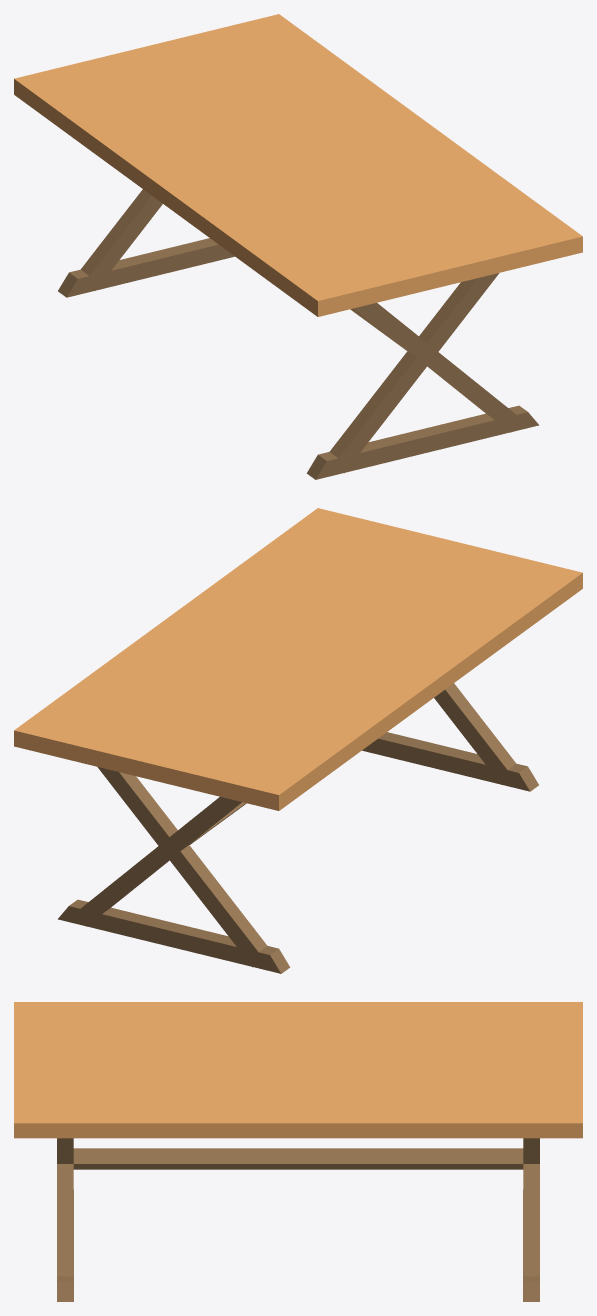
The model's file is Table.fbx.
3 renders of one model, top to bottom at view 1: azimuth 30°, elevation 25°; view 2: azimuth 150°, elevation 25°; view 3: azimuth 270°, elevation 25°, orthographic. The views are drawn at different scales.
Parts seen in each view (by area): view 1: TableTop; view 2: TableTop; view 3: TableTop.
Boxes of the visible parts, x1=… form: TableTop: x1=14, y1=14, x2=582, y2=479; TableTop: x1=14, y1=508, x2=582, y2=973; TableTop: x1=14, y1=1002, x2=582, y2=1301.
Size of the model in its own units: 89.44 by 64.87 by 178.
